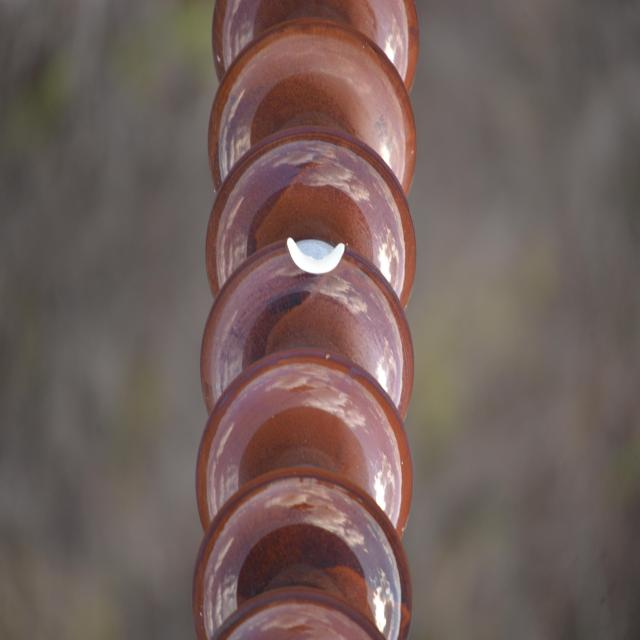broken: (284, 233, 348, 277)
insulator: (193, 0, 424, 634)
